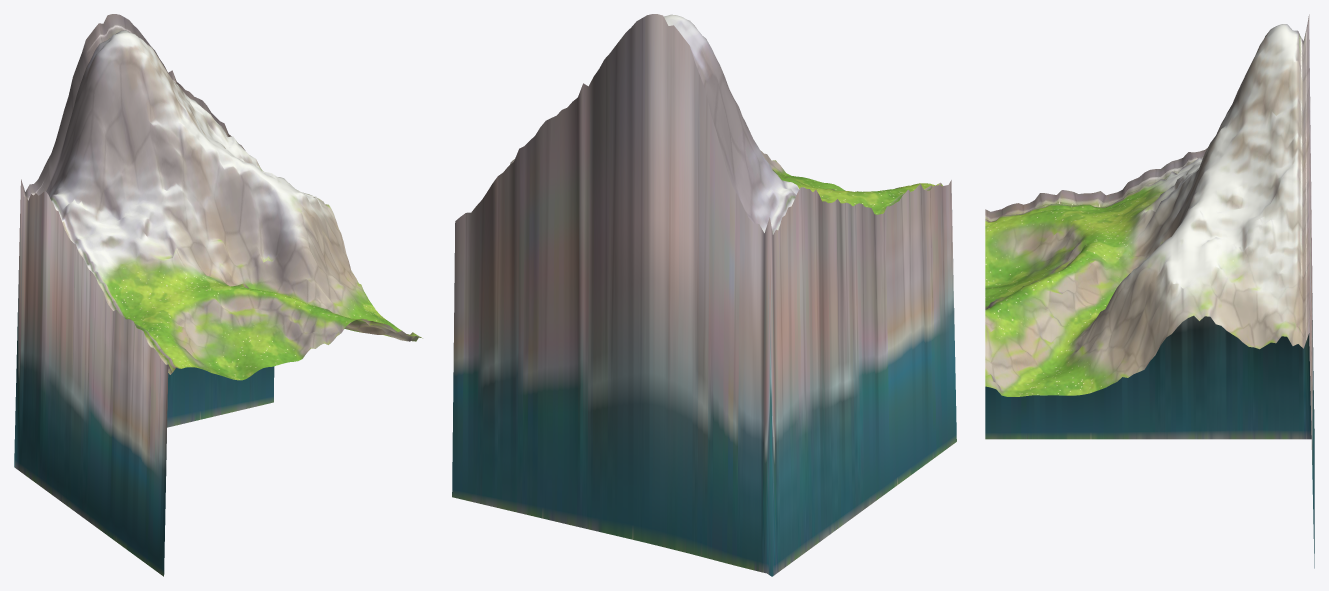
3 renders of one model, left to right at view 1: azimuth 30°, elevation 25°; view 2: azimuth 150°, elevation 25°; view 3: azimuth 270°, elevation 25°, orthographic. The views are drawn at different scales.
Parts seen in each view (by area): view 1: t000_192; view 2: t000_192; view 3: t000_192.
Boxes of the visible parts, x1,y1,x2,y2 form: t000_192: [14, 14, 422, 576]; t000_192: [452, 14, 956, 576]; t000_192: [985, 14, 1314, 568].
Bounding box in the file's own units: 64 × 102 × 64.
1 material, 1 textured.
